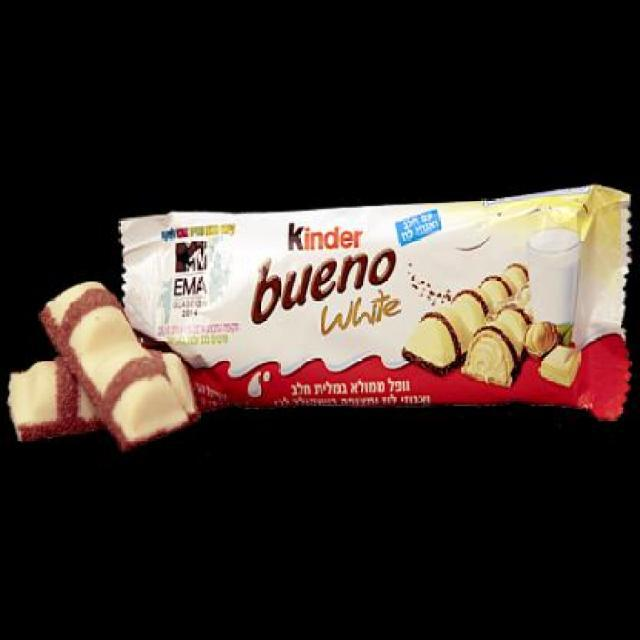Chocolate bar: (115, 183, 640, 420)
Chocolate bar packaged: (40, 283, 178, 449), (8, 352, 208, 446)
